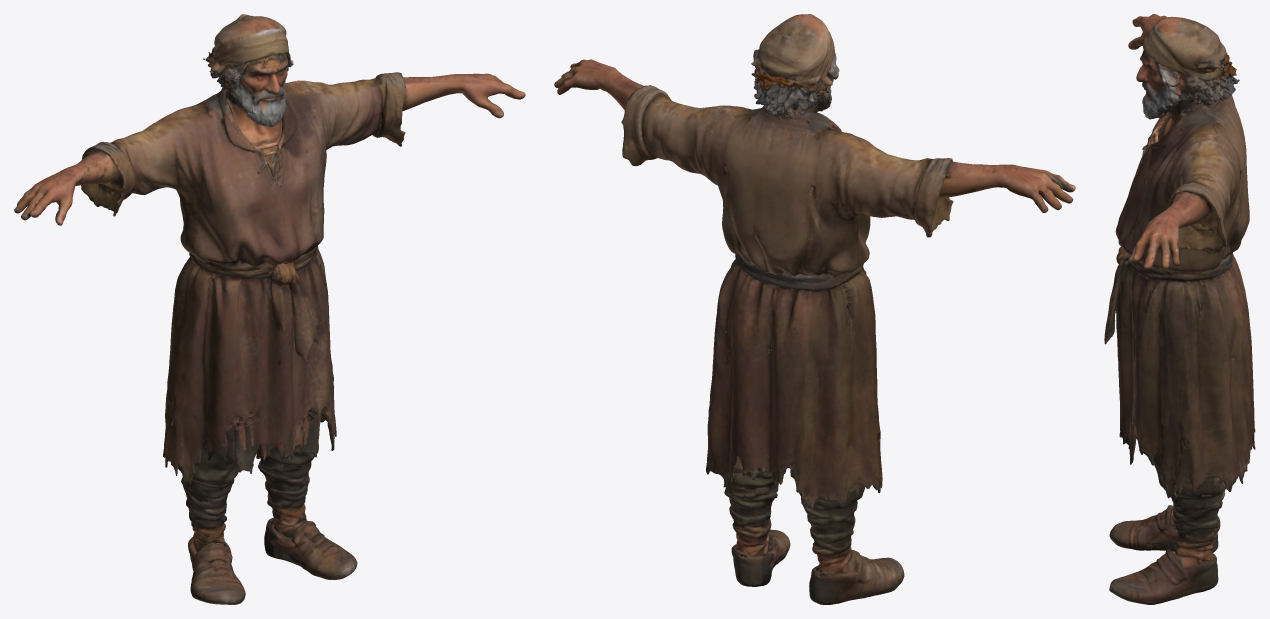
File: Meshy_AI_Peasant_Stance_0319014945_texture.glb
3 renders of one model, left to right at view 1: azimuth 30°, elevation 25°; view 2: azimuth 150°, elevation 25°; view 3: azimuth 270°, elevation 25°, orthographic. The views are drawn at different scales.
Bounding box in the file's own units: 1.8 × 1.9 × 0.4738.
Materials: 1 (1 with a texture image).
